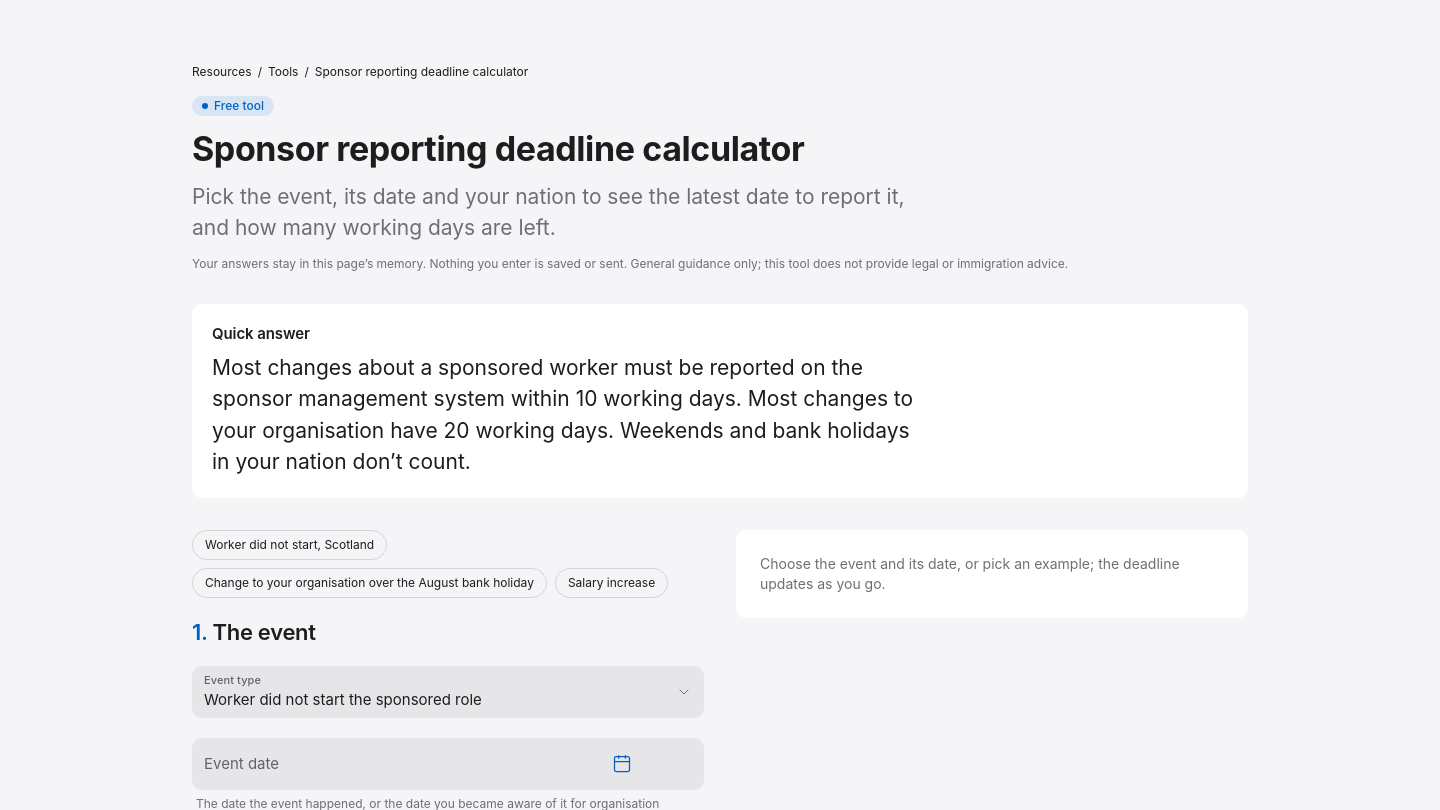
it: sponsor reporting deadline calculator page › shows the frame, fills presets and updates live, then resets
Check: the heading "Quick answer" is shown, box x1=212 y1=324 x2=310 y2=343
Step 1. Click the button "Worker did not start, Scotland" → (290, 545), box x1=192 y1=530 x2=387 y2=560
(page scrolled)
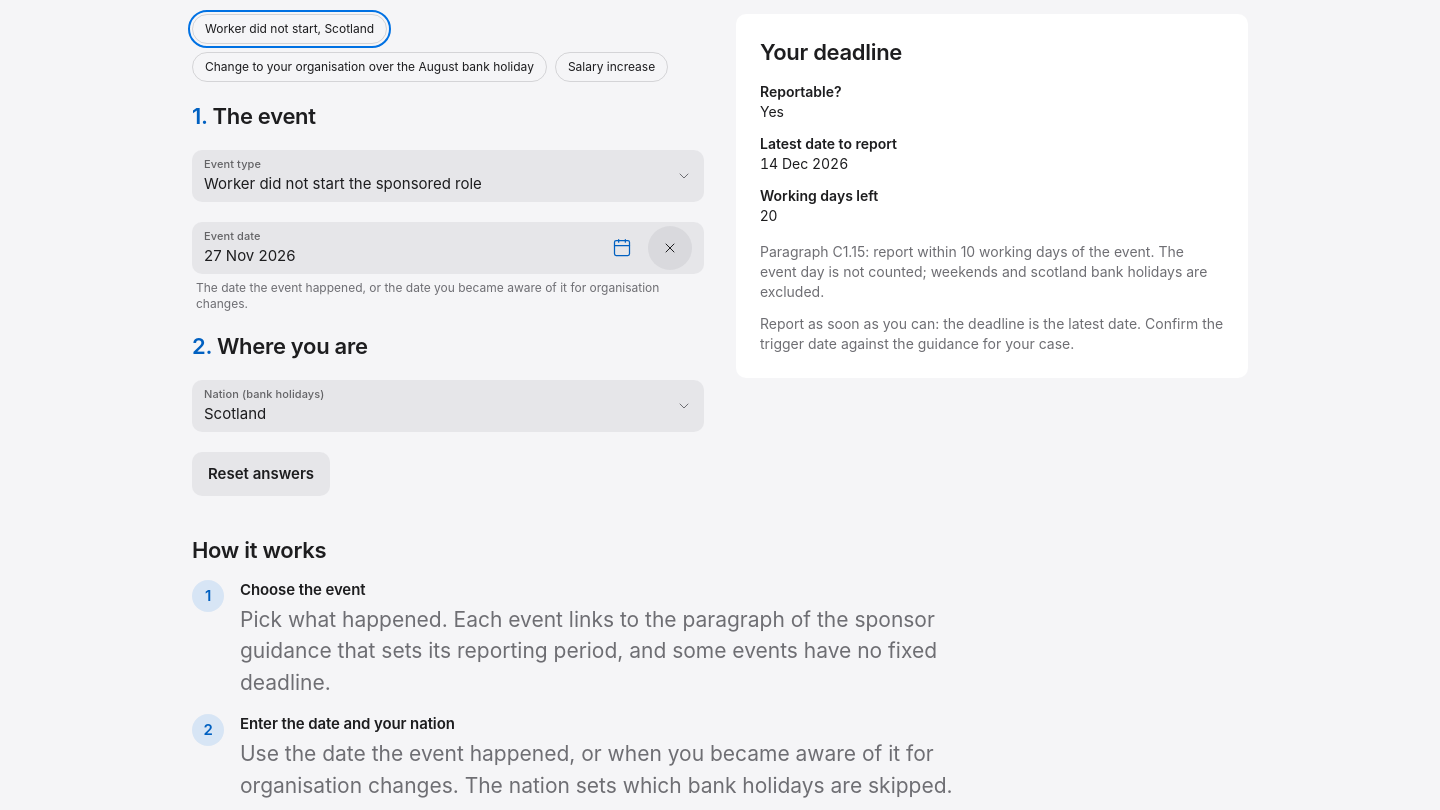
Check: the field labelled "Event date" holds "27 Nov 2026", box x1=204 y1=222 x2=592 y2=274
Check: the dropdown labelled "Nation (bank holidays)" shows "Scotland"
Check: the element named "Deadline result" shows "14 Dec 2026", box x1=760 y1=155 x2=848 y2=172
Step 2. Select "England and Wales" in the dropdown labelled "Nation (bank holidays)" → (448, 406), box x1=192 y1=380 x2=704 y2=432
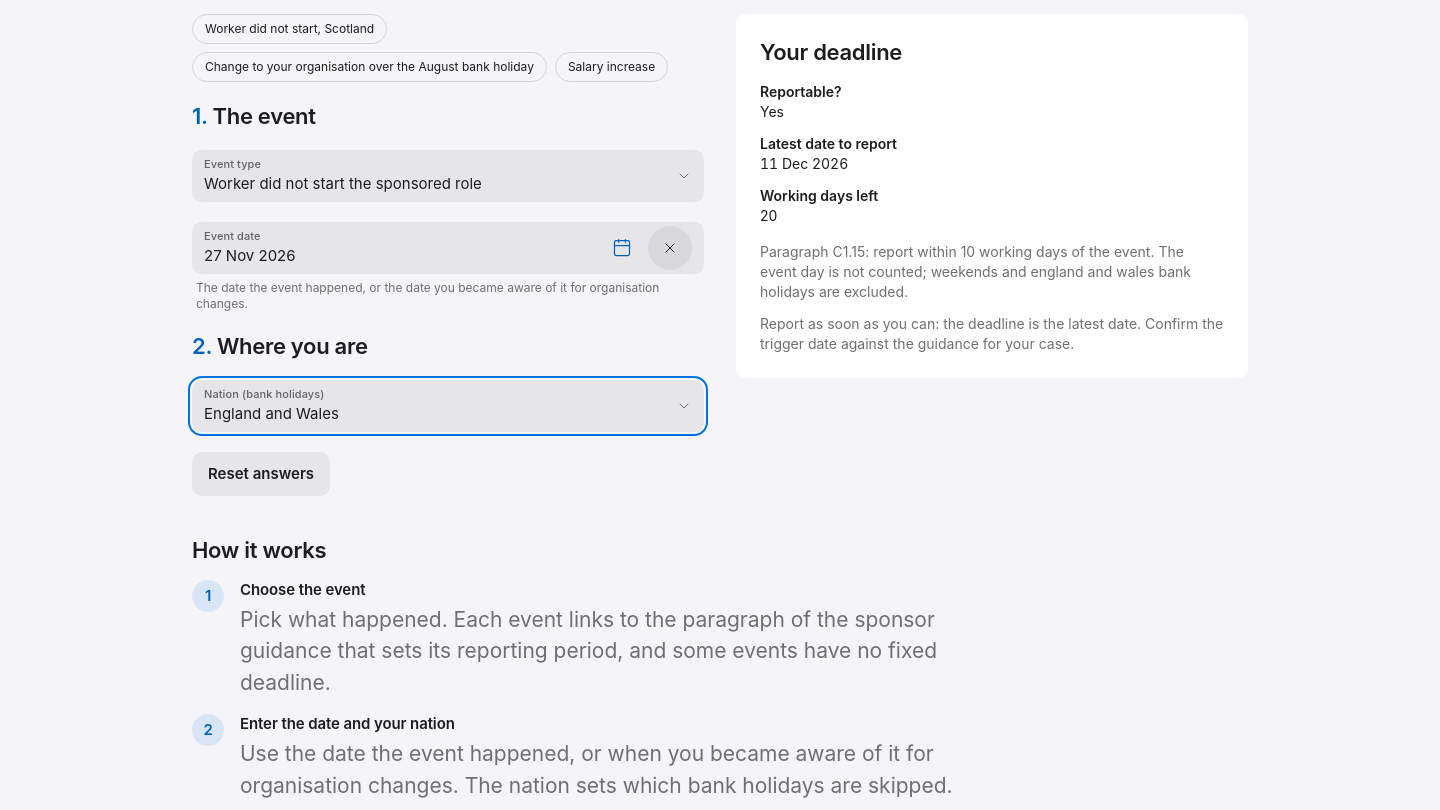
Check: the element named "Deadline result" shows "11 Dec 2026", box x1=760 y1=155 x2=848 y2=172
Step 3. Click the button "Salary increase" → (612, 67), box x1=555 y1=52 x2=668 y2=82
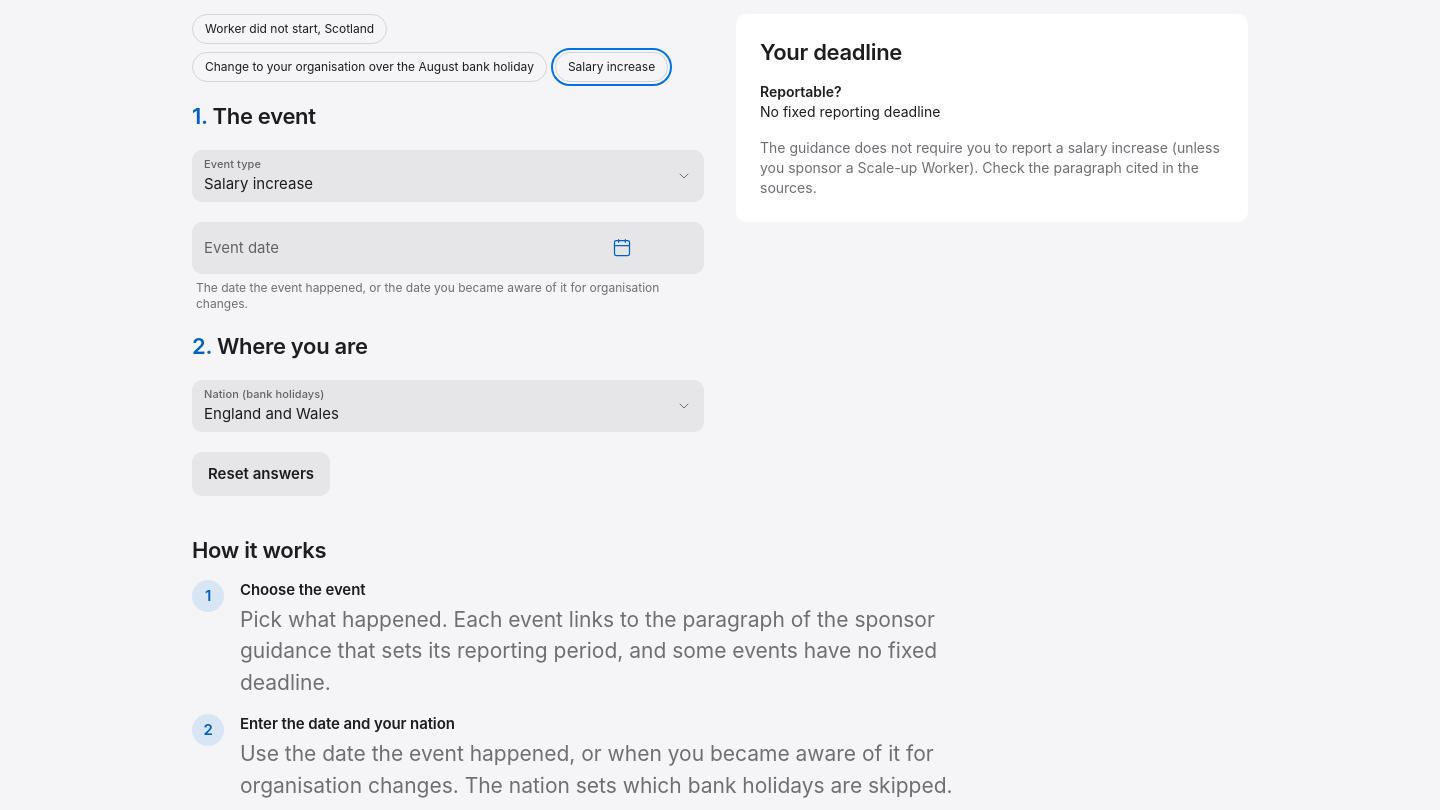
Check: the element named "Deadline result" shows "No fixed reporting deadline", box x1=760 y1=103 x2=940 y2=120
Step 4. Click the button "Reset answers" → (261, 474), box x1=192 y1=452 x2=330 y2=496
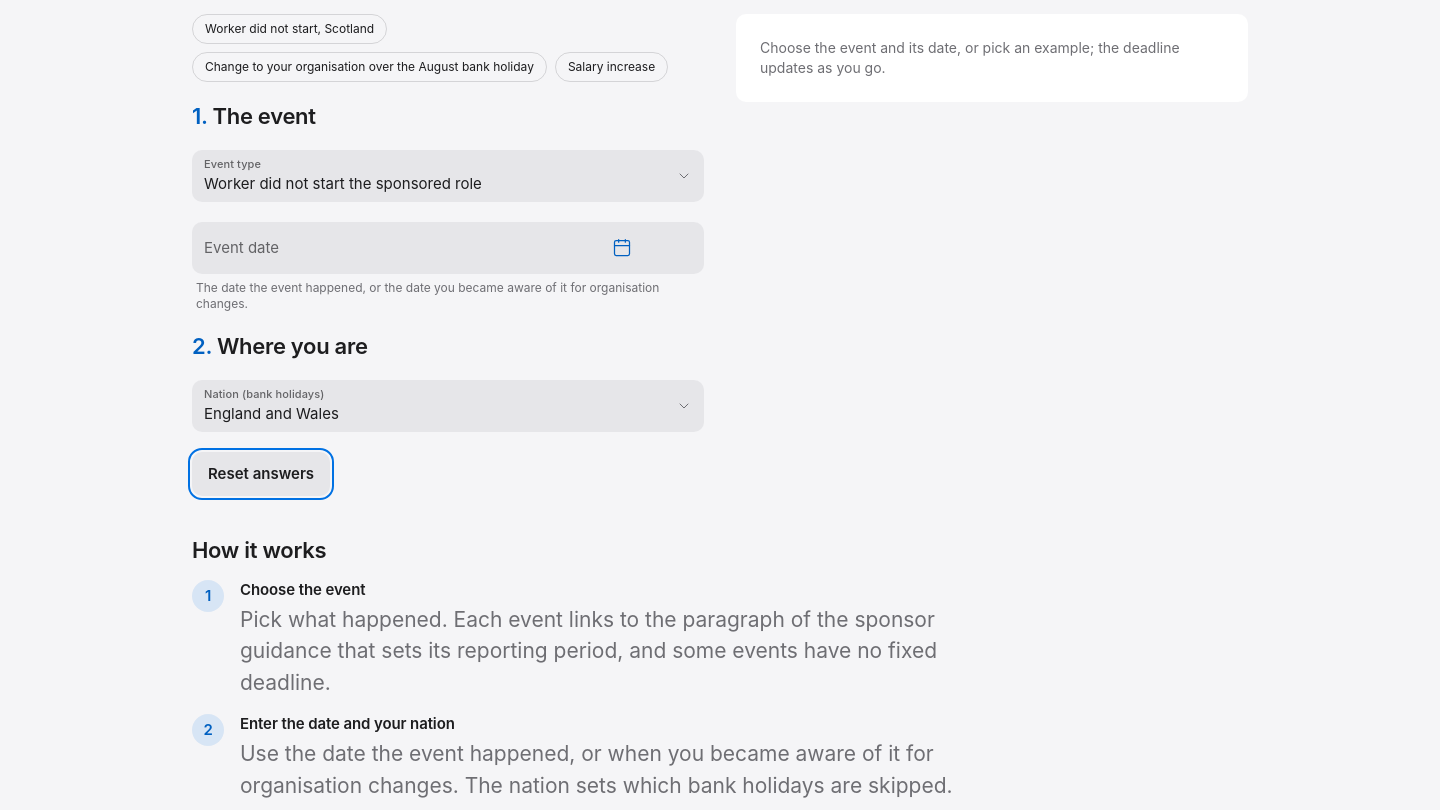
Check: the field labelled "Event date" is empty, box x1=204 y1=222 x2=592 y2=274
Check: the element named "Deadline result" no longer shows "Your deadline", box x1=736 y1=14 x2=1248 y2=102
